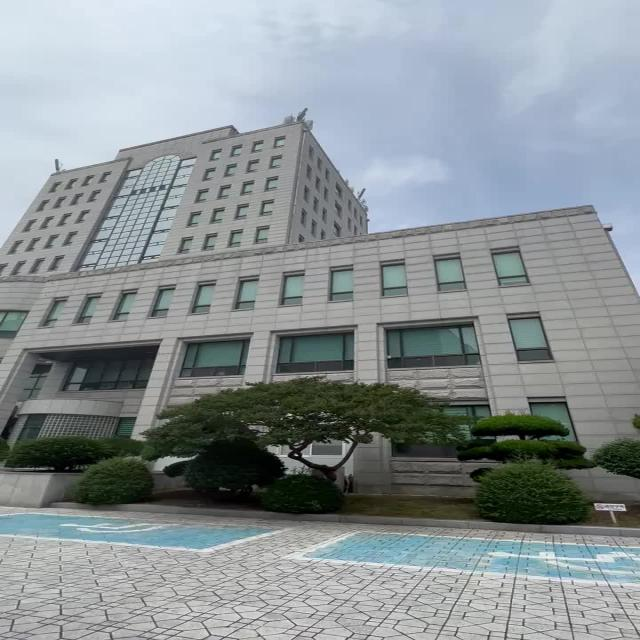building: (19, 124, 640, 391)
